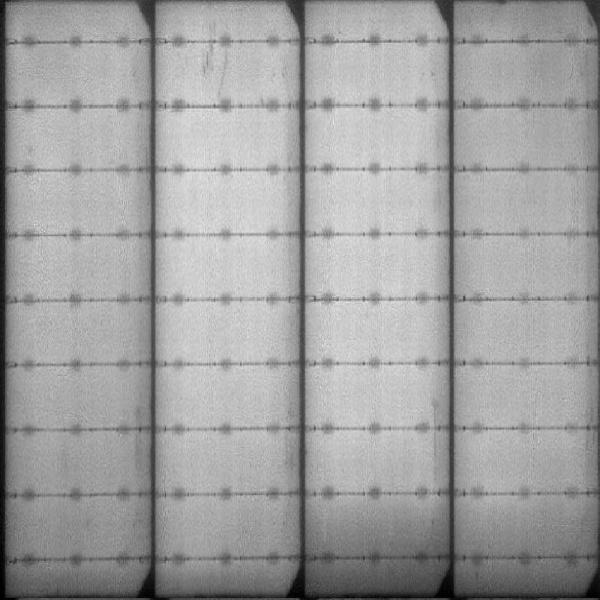scratch: (200, 22, 217, 77), (220, 48, 231, 95)
